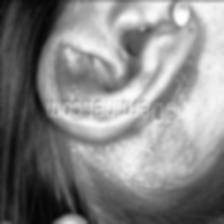Non-Cancerous Skin Condition: (110, 125, 192, 185), (52, 35, 97, 96), (172, 54, 202, 108)
